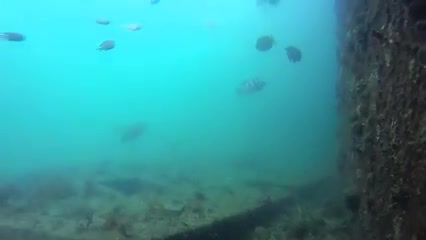smallfish: (253, 30, 281, 56), (281, 43, 309, 68)
